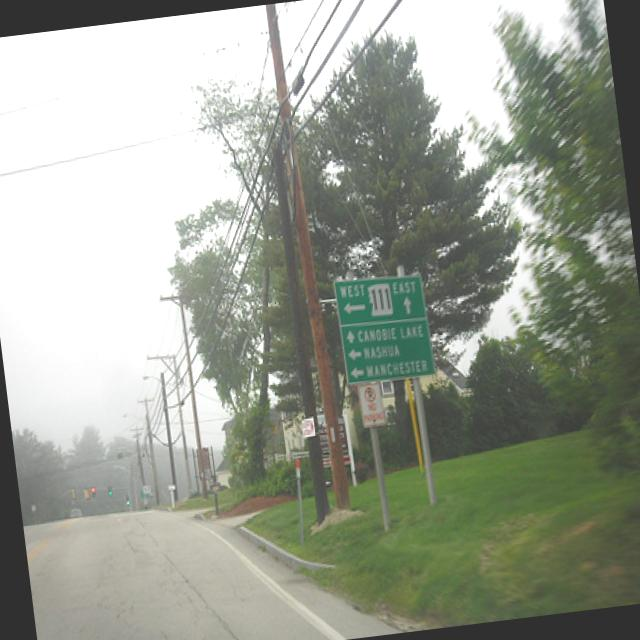Vehicle: (68, 508, 81, 518)
